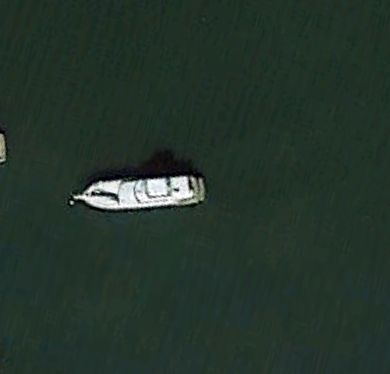boat: (70, 169, 206, 216)
